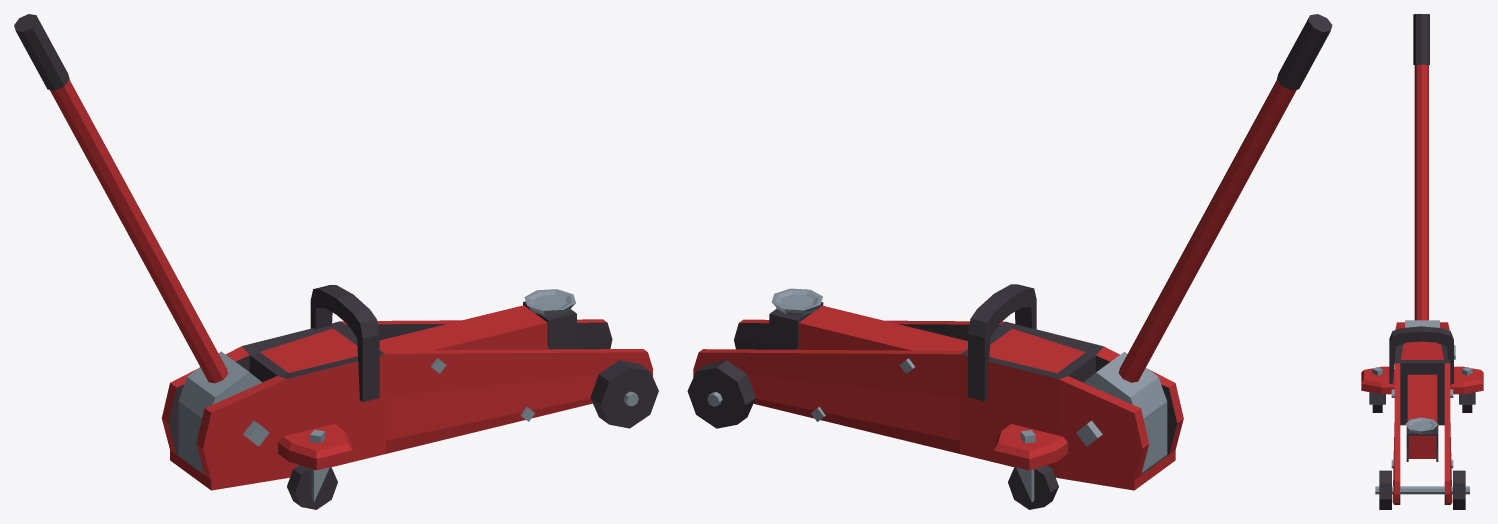
File: CarJack.fbx
3 renders of one model, left to right at view 1: azimuth 30°, elevation 25°; view 2: azimuth 150°, elevation 25°; view 3: azimuth 270°, elevation 25°, orthographic. The views are drawn at different scales.
Parts seen in each view (by area): view 1: CarJack; view 2: CarJack; view 3: CarJack.
Boxes of the visible parts, bbox=[...] form: CarJack: bbox=[14, 14, 658, 509]; CarJack: bbox=[687, 14, 1332, 509]; CarJack: bbox=[1361, 14, 1483, 509].
Bounding box in the file's own units: 1.37 × 1.12 × 0.3803.
